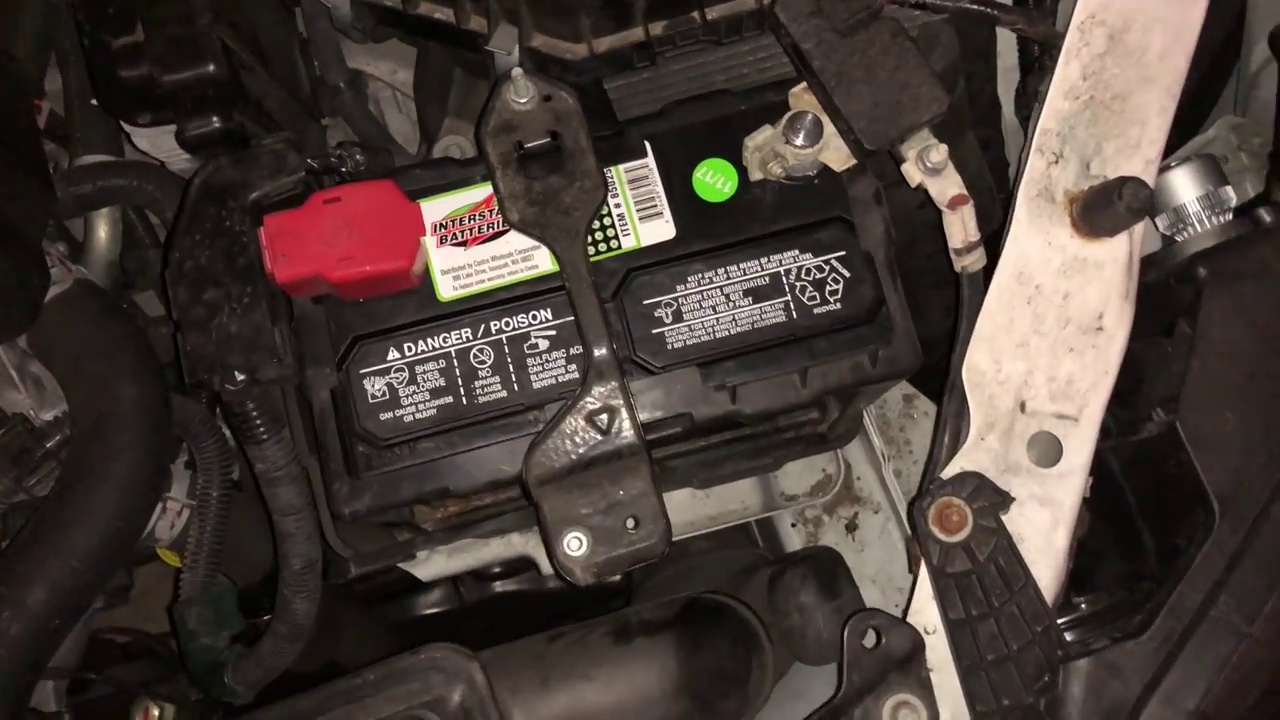battery: (264, 102, 906, 485)
neg_connected: (704, 90, 871, 208)
pos_connected: (235, 151, 445, 306)
